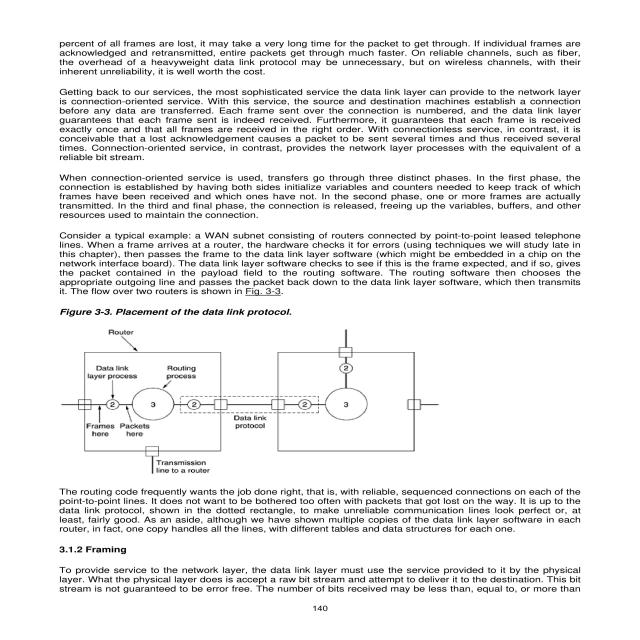diagram: (16, 303, 464, 482)
